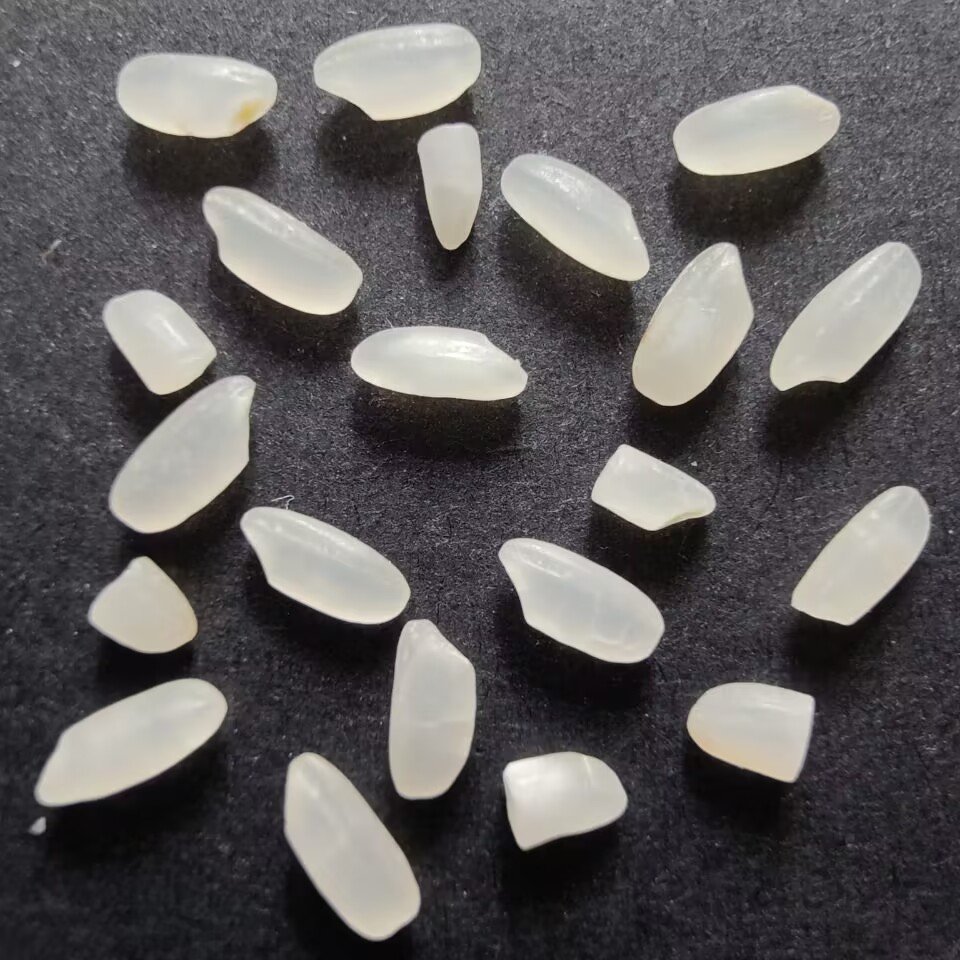broken: (683, 677, 819, 785), (497, 747, 632, 855), (94, 287, 220, 399), (586, 440, 721, 536), (82, 550, 200, 658), (412, 120, 486, 256)
rice: (279, 751, 426, 946), (28, 674, 230, 810), (763, 234, 927, 396), (105, 373, 262, 534), (494, 538, 669, 667), (234, 504, 413, 630), (197, 182, 365, 316), (786, 481, 936, 628), (627, 238, 754, 411), (498, 151, 653, 287), (383, 615, 484, 802), (305, 18, 483, 124), (670, 78, 848, 179), (109, 49, 283, 142), (343, 322, 530, 408)
